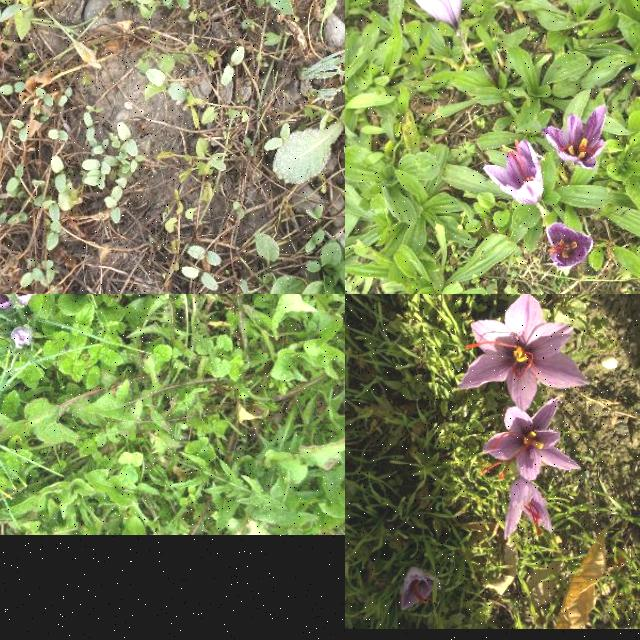flower: (459, 294, 587, 409), (480, 398, 580, 480), (542, 106, 606, 170), (484, 140, 544, 208), (503, 478, 555, 542), (545, 225, 593, 271), (400, 566, 442, 612), (412, 0, 462, 27), (12, 326, 34, 348)
